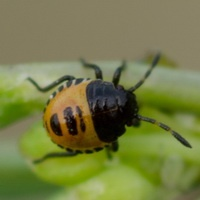insect: (27, 53, 191, 163)
